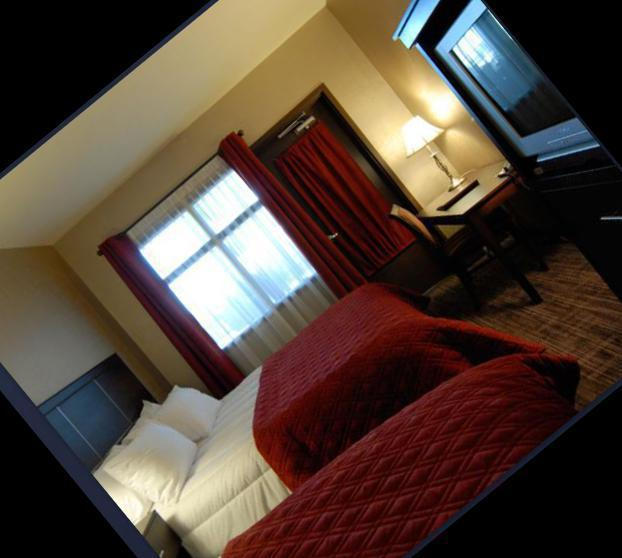Armario: (399, 0, 622, 345)
